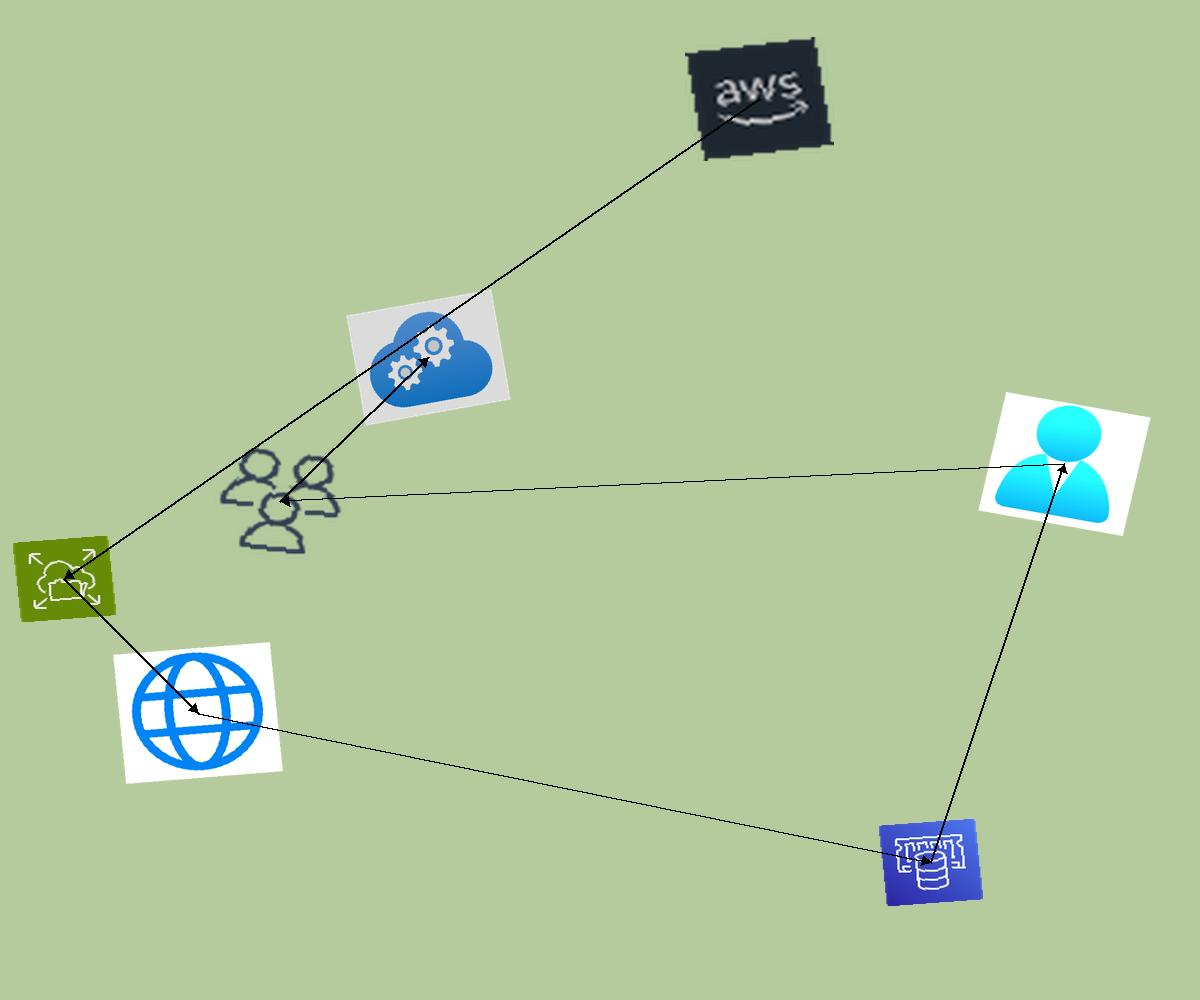AWS-Cloud-logo: (685, 37, 834, 161)
AWS-EFS: (12, 535, 117, 623)
AWS-ElastiCache: (878, 818, 984, 907)
AWS-Res_Users: (204, 438, 357, 565)
Azure_cloud_services: (346, 289, 511, 426)
Azure_http: (113, 642, 283, 784)
Azure_users: (978, 392, 1151, 536)
